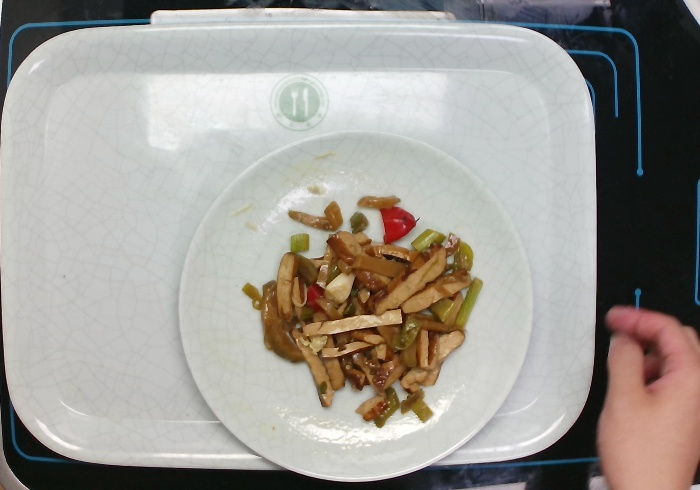JYsf-Da_Yuan_Pan: (172, 127, 536, 486)
